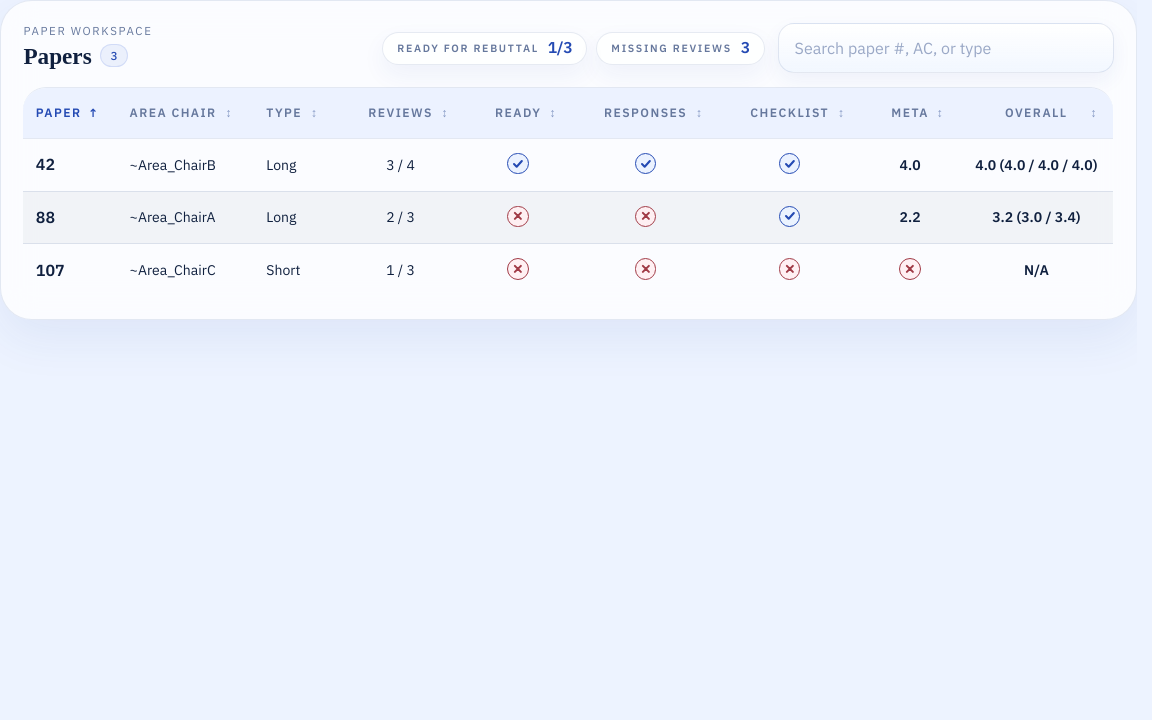
Test: PapersPanel › reveals paper details when clicking any table row cell
What coordinates should you click on to do the following:
click the text "~Area_ChairA"
I would click on:
 (186, 218)
Its box is [117,191,254,244].
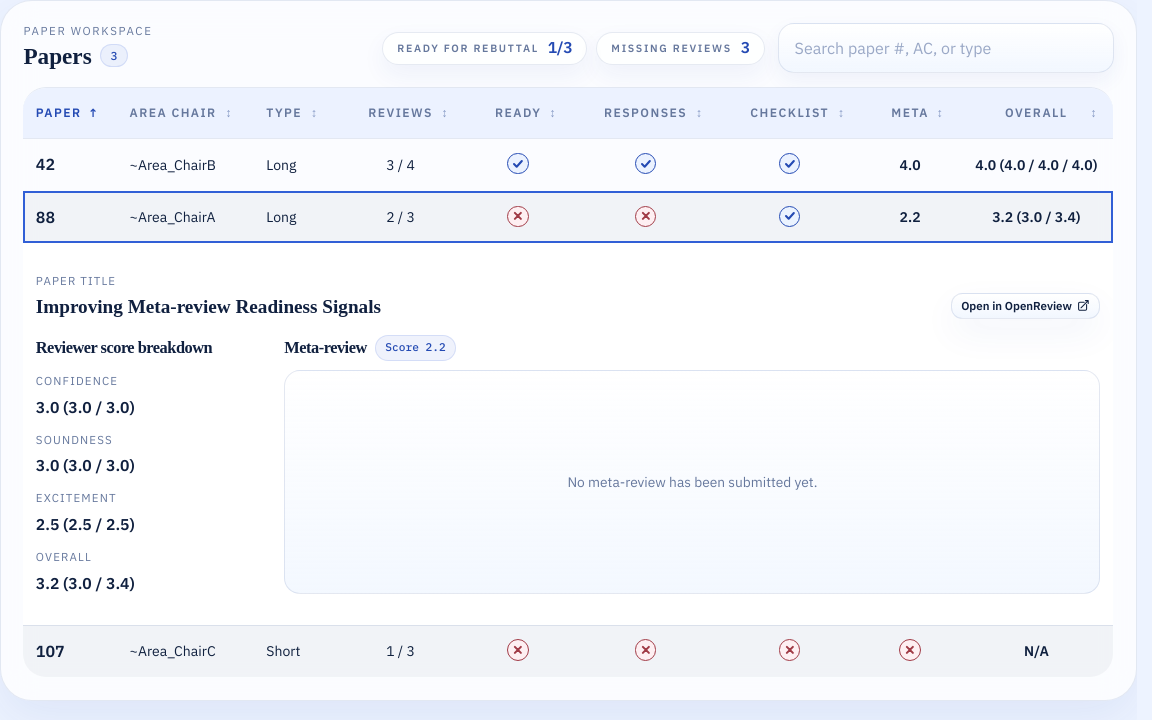
Now the heading "Reviewer score breakdown" is shown, box [36,338,212,357]
